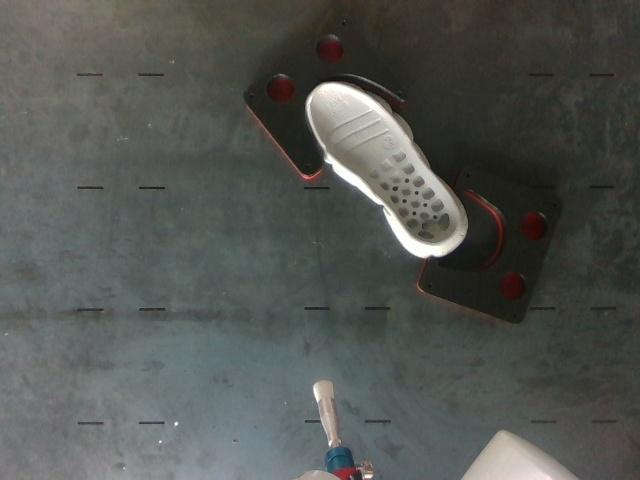shoes: (310, 84, 459, 245)
